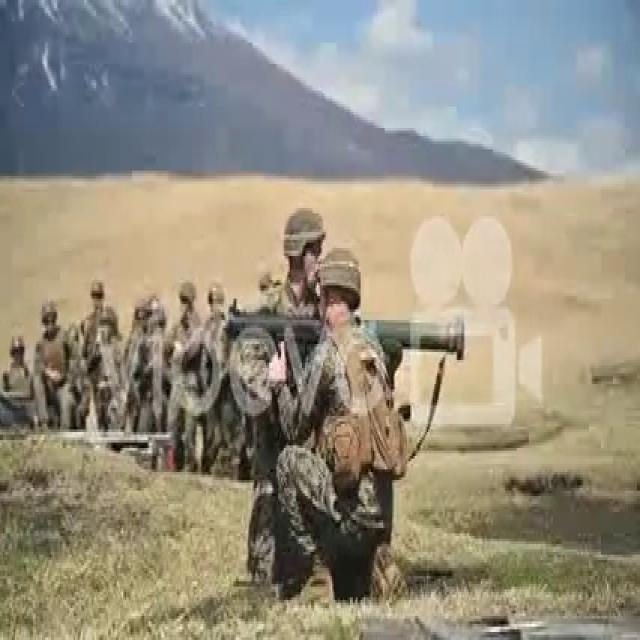bazooka: (224, 299, 475, 366)
